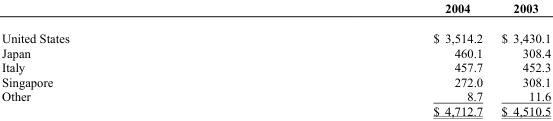table: (1, 1, 550, 117)
table column: (1, 1, 250, 117), (250, 1, 491, 117), (491, 1, 550, 117)
table column header: (1, 1, 550, 23)
table row: (1, 1, 550, 23), (1, 23, 550, 45), (1, 59, 550, 74), (1, 88, 550, 103), (1, 45, 550, 59), (1, 74, 550, 88), (1, 103, 550, 117)
